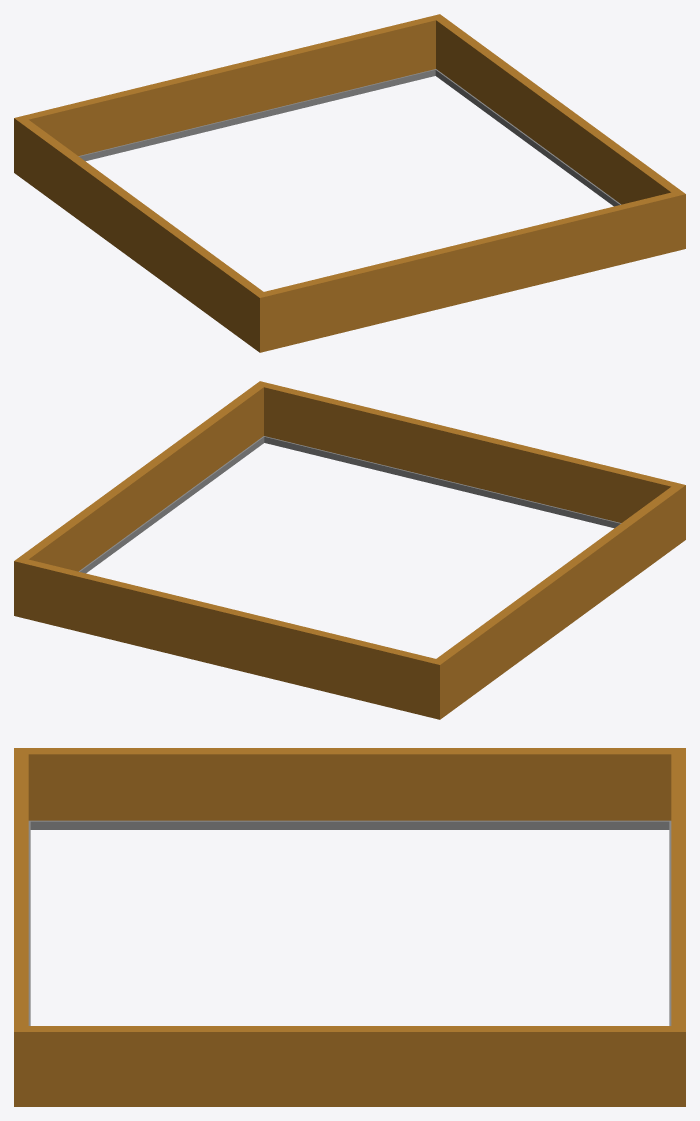
File: weiqiang1.FBX
3 renders of one model, top to bottom at view 1: azimuth 30°, elevation 25°; view 2: azimuth 150°, elevation 25°; view 3: azimuth 270°, elevation 25°, orthographic. The views are drawn at different scales.
Visible parts, largest first — view 1: environment_01_wall_24_0; view 2: environment_01_wall_24_0; view 3: environment_01_wall_24_0.
Part boxes in pixels (x1,y1,x2,y2): environment_01_wall_24_0: (14, 14, 685, 352); environment_01_wall_24_0: (14, 381, 685, 719); environment_01_wall_24_0: (14, 748, 685, 1106).
Size of the model in its own units: 2969 by 365 by 2969.
